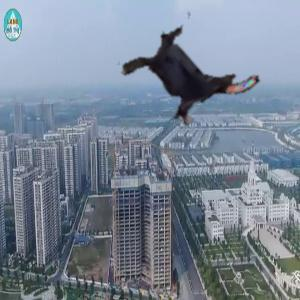drone: (120, 7, 255, 142)
